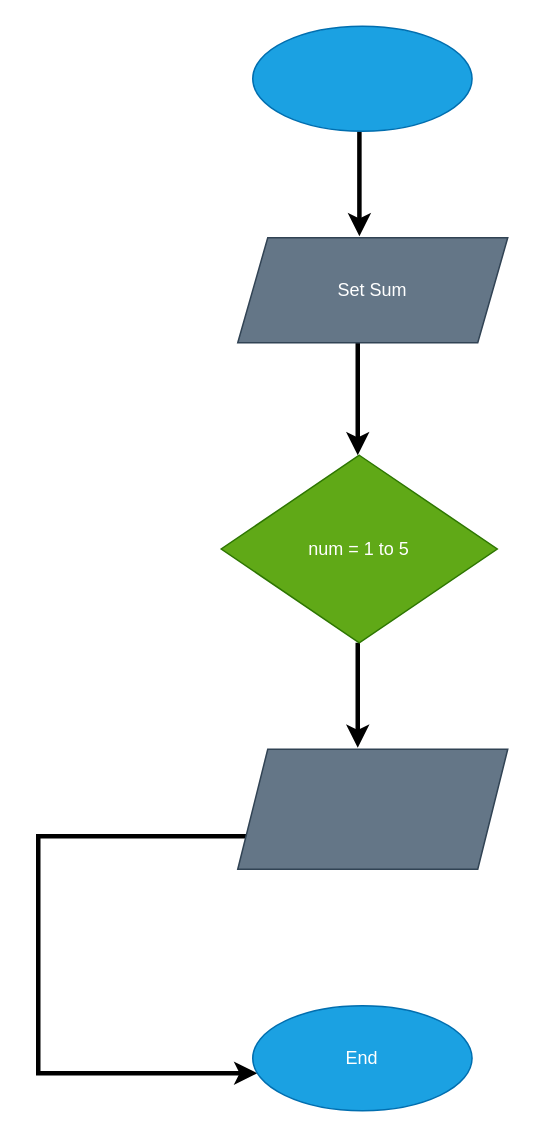
The diagram is 534 pixels wide and 1137 high, and some of its shapes have lost their labels. The centre of each missing label's shape, as x and y in pixels:
"print sum" goes at (x=372, y=808).
"Start" goes at (x=361, y=78).
